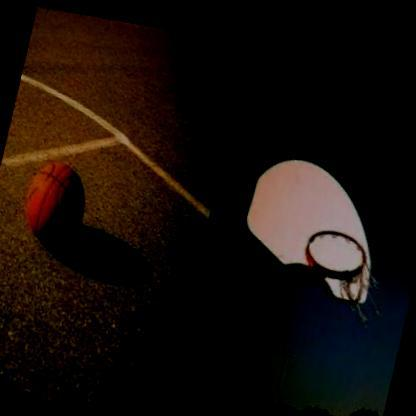basketball: (8, 136, 102, 260)
